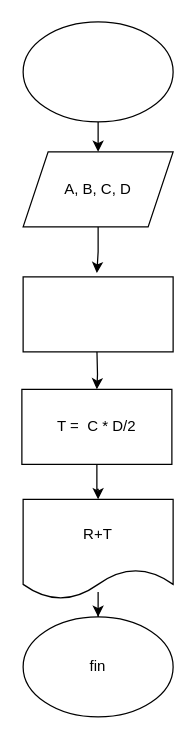
Image size: 195x739. Some labels were removed from this diagram. The box of each missing label's shape, as (x1, y1, x2, y2) in pixels:
inicio: (22, 21, 173, 122)
R = A * B: (22, 276, 173, 352)
